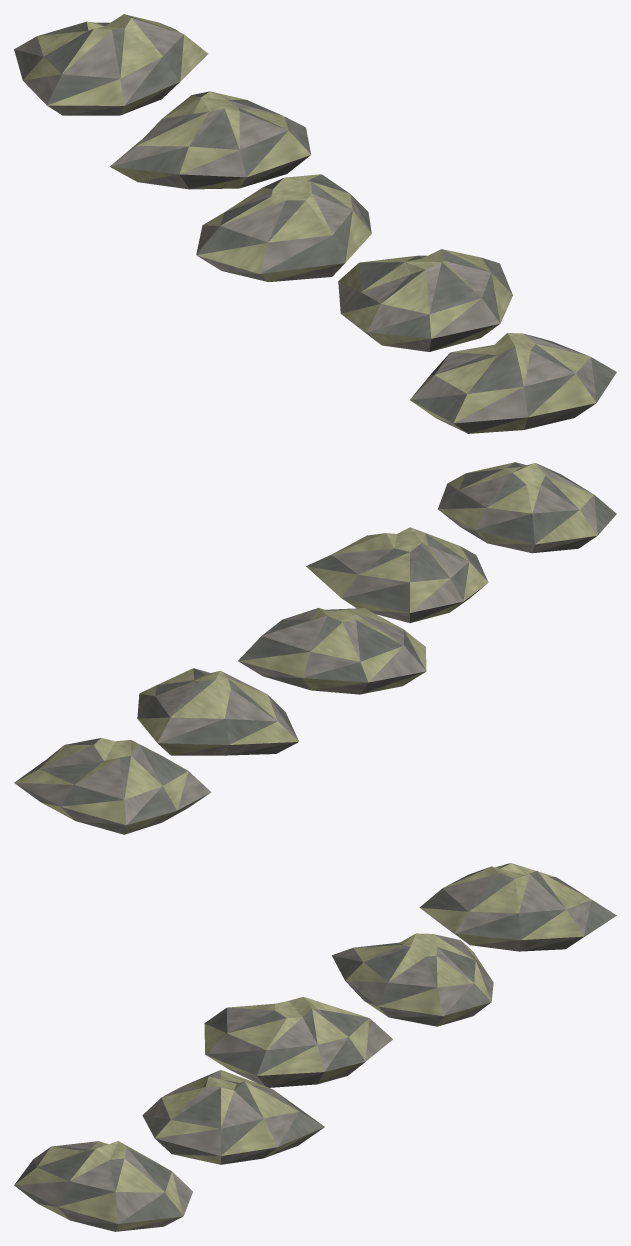
The model's file is stepping_stones_set.fbx.
3 views of the same model, one above another, from view 1: azimuth 30°, elevation 25°; view 2: azimuth 150°, elevation 25°; view 3: azimuth 330°, elevation 25° (orthographic). The views are drawn at different scales.
Visible parts, largest first — view 1: stepping_stones_set; view 2: stepping_stones_set; view 3: stepping_stones_set.
Part boxes in pixels (bbox=[...]): stepping_stones_set: bbox=[14, 14, 616, 433]; stepping_stones_set: bbox=[14, 462, 616, 834]; stepping_stones_set: bbox=[14, 863, 616, 1231].
Size of the model in its own units: 100 by 30 by 400.
Materials: 1 (1 with a texture image).
